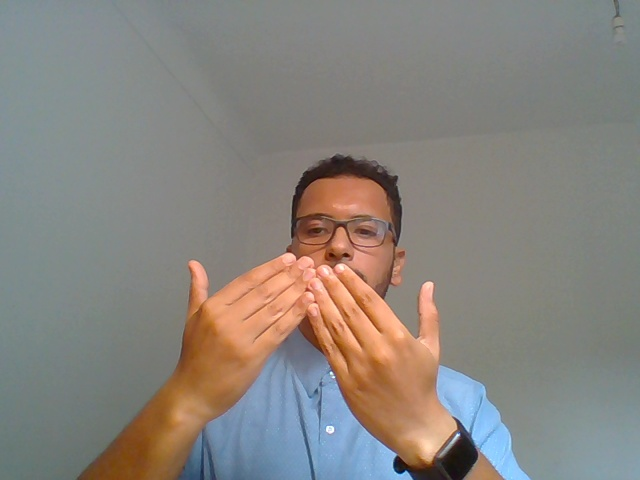thanks: (135, 244, 480, 477)
